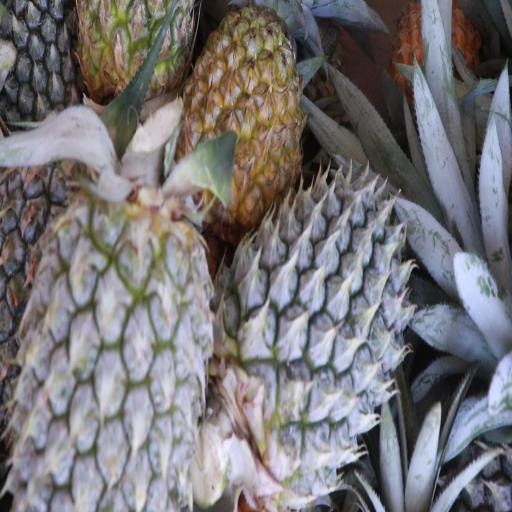Pineapple - v8 v1: (184, 10, 302, 212)
